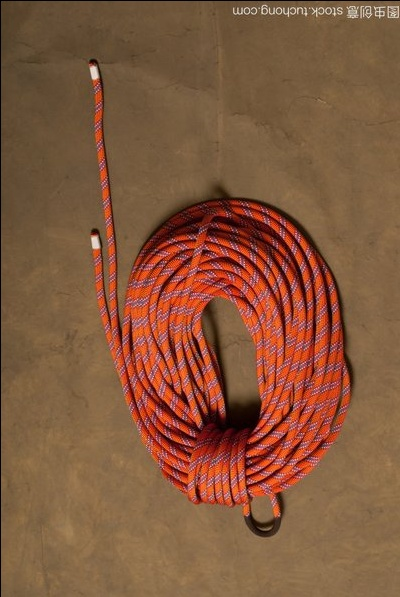9/可回收垃圾/绳子: (86, 59, 353, 539)
